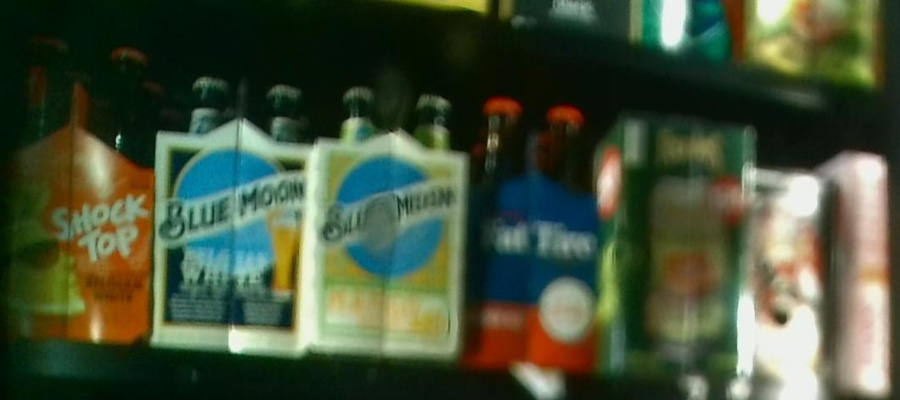bottle: (154, 64, 307, 354), (307, 81, 463, 358), (11, 39, 151, 346), (594, 101, 749, 378), (467, 91, 598, 374)
